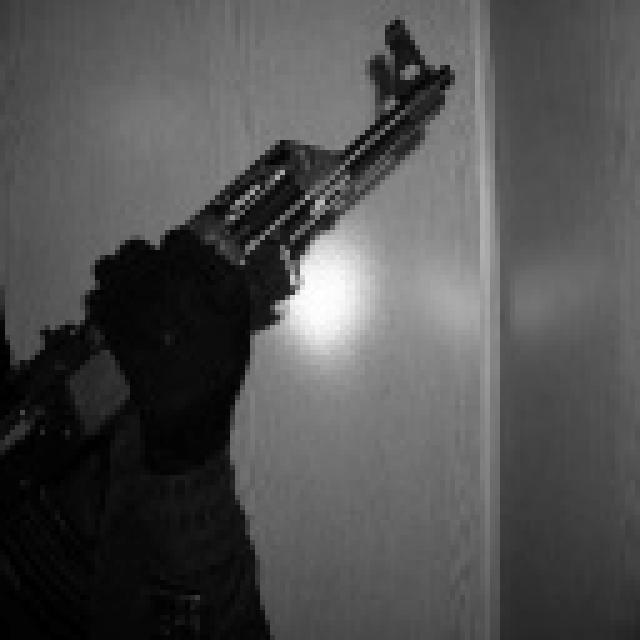Rifle: (0, 0, 496, 514)
